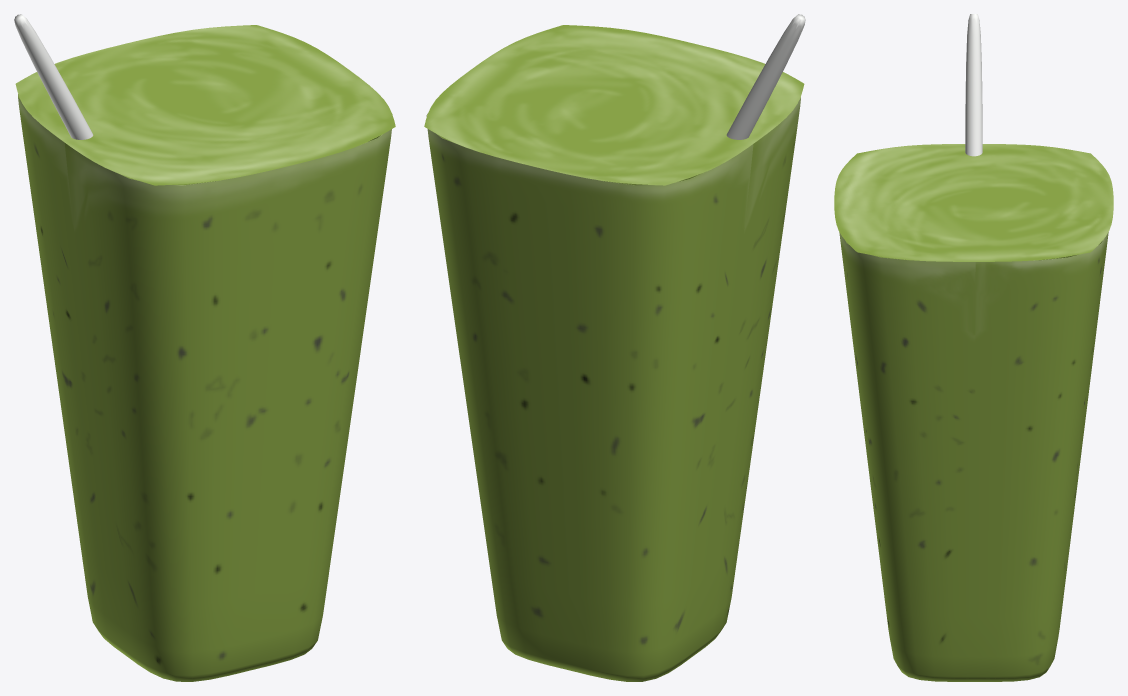
File: green_fruitSmoothie.fbx
3 views of the same model, side by side, from view 1: azimuth 30°, elevation 25°; view 2: azimuth 150°, elevation 25°; view 3: azimuth 270°, elevation 25° (orthographic). The views are drawn at different scales.
Parts seen in each view (by area): view 1: pCylinder2; view 2: pCylinder2; view 3: pCylinder2.
Part boxes in pixels (x1=…): pCylinder2: x1=14, y1=14, x2=395, y2=681; pCylinder2: x1=424, y1=14, x2=805, y2=681; pCylinder2: x1=834, y1=14, x2=1113, y2=681.
Size of the model in its own units: 16.76 by 31.95 by 14.42.
1 material, 1 textured.
